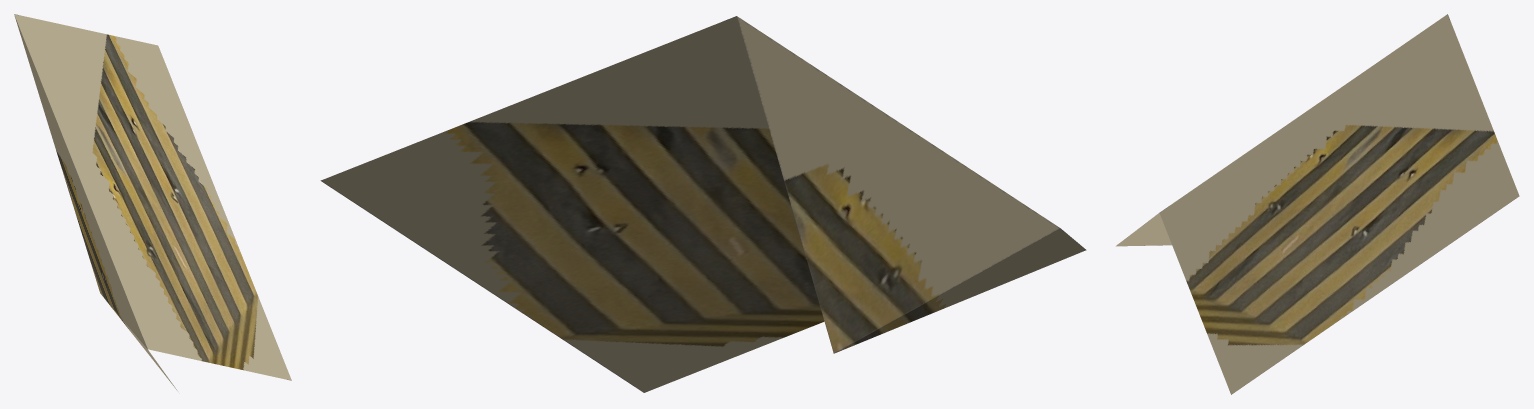
Rendered from entity-v-guard-left.glb.
3 renders of one model, left to right at view 1: azimuth 30°, elevation 25°; view 2: azimuth 150°, elevation 25°; view 3: azimuth 270°, elevation 25°, orthographic. The views are drawn at different scales.
Visible parts, largest first — view 1: geometry_0; view 2: geometry_0; view 3: geometry_0.
Boxes of the visible parts, x1=… form: geometry_0: x1=14, y1=14, x2=291, y2=390; geometry_0: x1=320, y1=16, x2=1086, y2=392; geometry_0: x1=1116, y1=14, x2=1519, y2=394.
Bounding box in the file's own units: 0.5228 × 0.8034 × 0.9635.
Materials: 1 (1 with a texture image).
